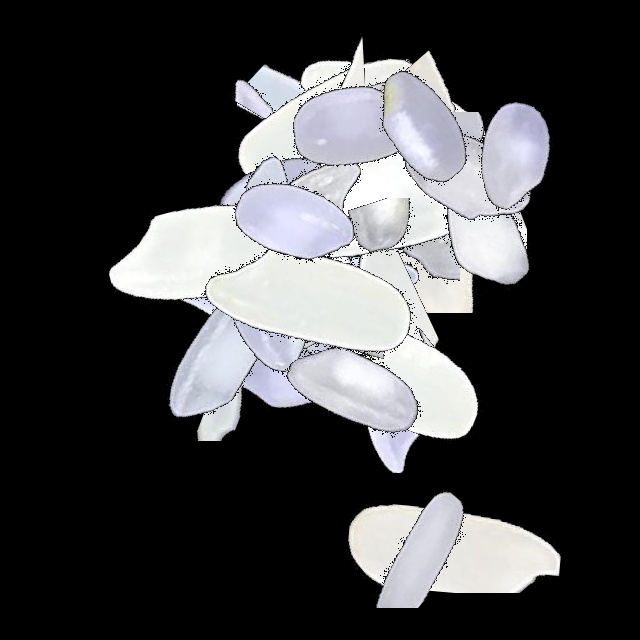Broken: (335, 45, 509, 295), (341, 149, 591, 313), (319, 106, 483, 356), (199, 127, 449, 288), (237, 0, 397, 250), (333, 436, 583, 593), (259, 452, 509, 608), (196, 154, 446, 309), (381, 120, 527, 370), (169, 140, 419, 282), (359, 246, 498, 496), (331, 18, 469, 268), (282, 101, 418, 351), (220, 230, 470, 363), (324, 0, 454, 250), (40, 274, 290, 403), (153, 324, 403, 441), (345, 130, 460, 380), (271, 198, 521, 305), (200, 289, 450, 396), (277, 378, 527, 484), (264, 0, 367, 250), (315, 112, 565, 215), (201, 52, 451, 148), (353, 244, 440, 494)
Full: (161, 179, 411, 429), (159, 242, 409, 492), (185, 124, 435, 374), (187, 69, 437, 319), (266, 0, 516, 250), (207, 0, 457, 250), (149, 75, 399, 325), (182, 131, 432, 381), (220, 208, 470, 458), (272, 255, 522, 505), (249, 76, 499, 326), (363, 111, 613, 361), (176, 81, 426, 331), (94, 230, 344, 480), (143, 106, 393, 356), (229, 0, 479, 250), (340, 48, 590, 298), (170, 156, 420, 406), (144, 190, 394, 440), (82, 128, 332, 378), (231, 267, 481, 517), (390, 27, 640, 277), (296, 0, 546, 250), (188, 175, 438, 425), (170, 97, 420, 347)
